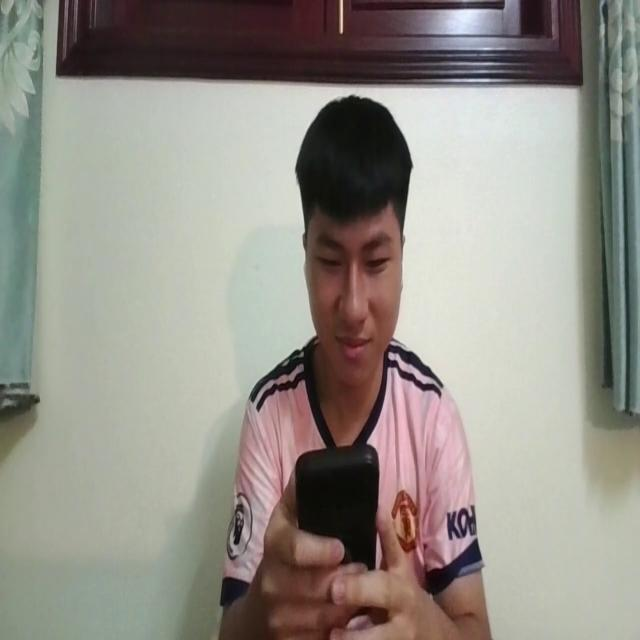phone: (294, 438, 382, 577)
student: (226, 86, 488, 640)
